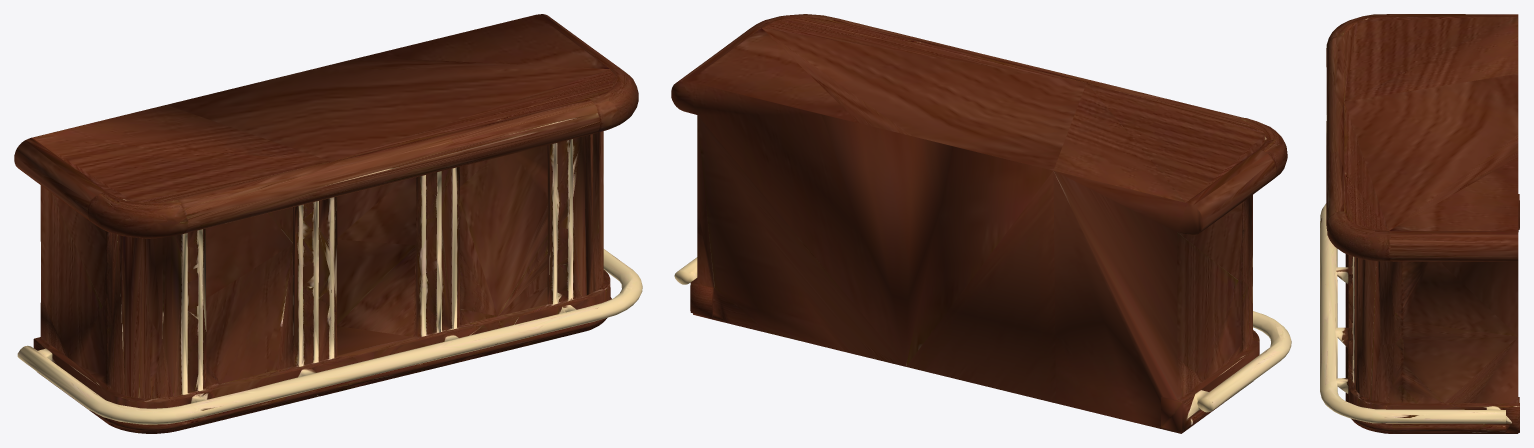
File: barCounter.glb
3 renders of one model, left to right at view 1: azimuth 30°, elevation 25°; view 2: azimuth 150°, elevation 25°; view 3: azimuth 270°, elevation 25°, orthographic. The views are drawn at different scales.
Parts seen in each view (by area): view 1: Mesh_0; view 2: Mesh_0; view 3: Mesh_0.
Boxes of the visible parts, x1,y1,x2,y2 form: Mesh_0: (14,14,642,433); Mesh_0: (671,14,1291,433); Mesh_0: (1320,14,1519,433).
Bounding box in the file's own units: 2.67 × 1.1 × 0.9693.
1 material, 1 textured.
